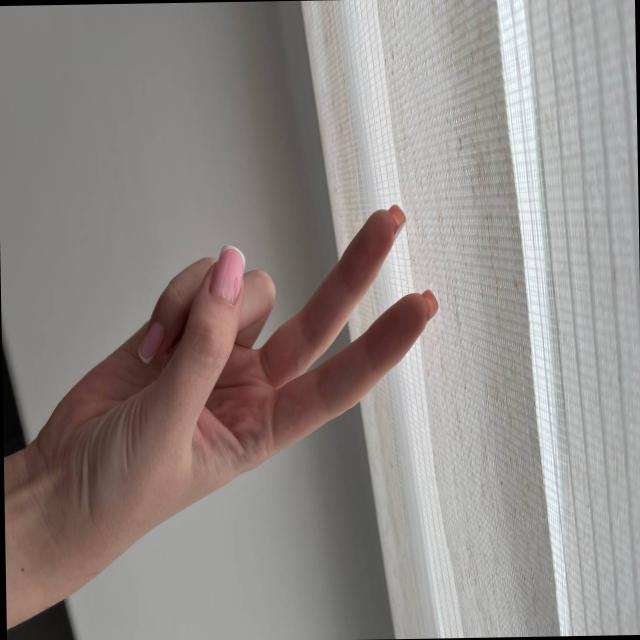k: (72, 158, 448, 522)
